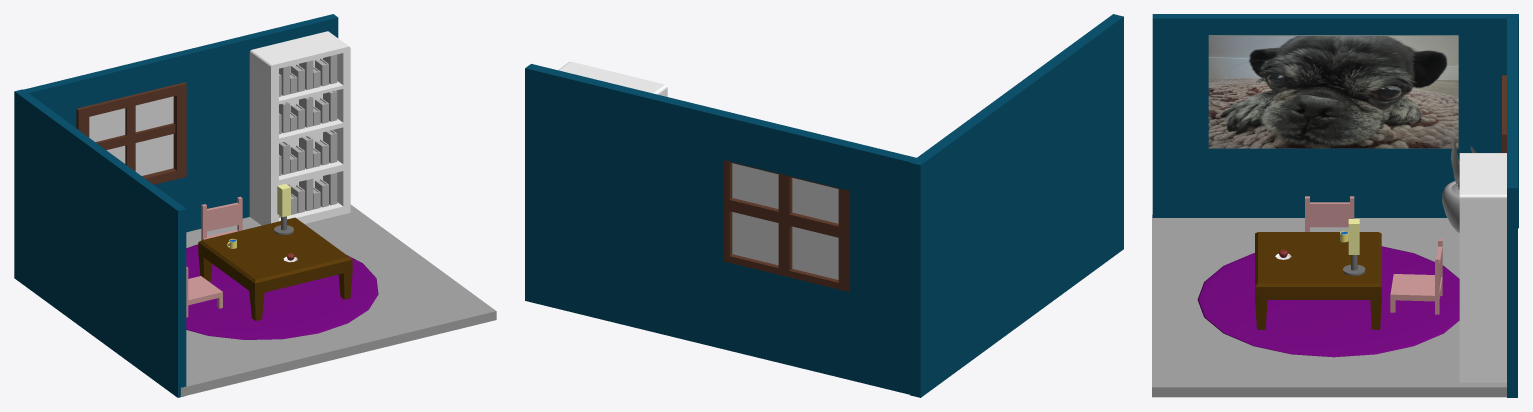
Rendered from Room_1.fbx.
3 views of the same model, side by side, from view 1: azimuth 30°, elevation 25°; view 2: azimuth 150°, elevation 25°; view 3: azimuth 270°, elevation 25° (orthographic). The views are drawn at different scales.
Visible parts, largest first — view 1: Wall, Floor, Wall1, Bookshelf, Rug, Table:Table, Window1, pCube2, Chair1, chair:Chair, pCube1; view 2: Wall1, Wall, pCube2, Window1, Bookshelf; view 3: Wall, Floor, pCube3, Rug, Bookshelf, Table:Table, Wall1, Chair1, chair:Chair, Potted_plant:pot, pCube1, Window1.
Boxes of the visible parts, x1,y1,x2,y2 form: Wall: [14, 89, 186, 397]; Floor: [180, 204, 496, 396]; Wall1: [19, 14, 338, 232]; Bookshelf: [249, 31, 350, 225]; Rug: [186, 244, 378, 339]; Table:Table: [198, 217, 352, 320]; Window1: [76, 82, 186, 184]; pCube2: [89, 96, 173, 175]; Chair1: [201, 196, 242, 240]; chair:Chair: [186, 266, 222, 317]; pCube1: [277, 184, 290, 217]; Wall1: [525, 64, 919, 394]; Wall: [910, 14, 1123, 397]; pCube2: [732, 163, 838, 279]; Window1: [724, 160, 849, 291]; Bookshelf: [558, 61, 667, 96]; Wall: [1152, 14, 1518, 228]; Floor: [1152, 214, 1506, 397]; pCube3: [1208, 35, 1458, 148]; Rug: [1197, 246, 1459, 357]; Bookshelf: [1459, 153, 1506, 382]; Table:Table: [1255, 232, 1381, 329]; Wall1: [1507, 16, 1517, 397]; Chair1: [1390, 238, 1442, 314]; chair:Chair: [1305, 196, 1354, 231]; Potted_plant:pot: [1442, 181, 1459, 232]; pCube1: [1348, 219, 1359, 254]; Window1: [1502, 75, 1506, 152].
Size of the model in its own units: 36.73 by 20.61 by 32.68.
Materials: 20 (1 with a texture image).
